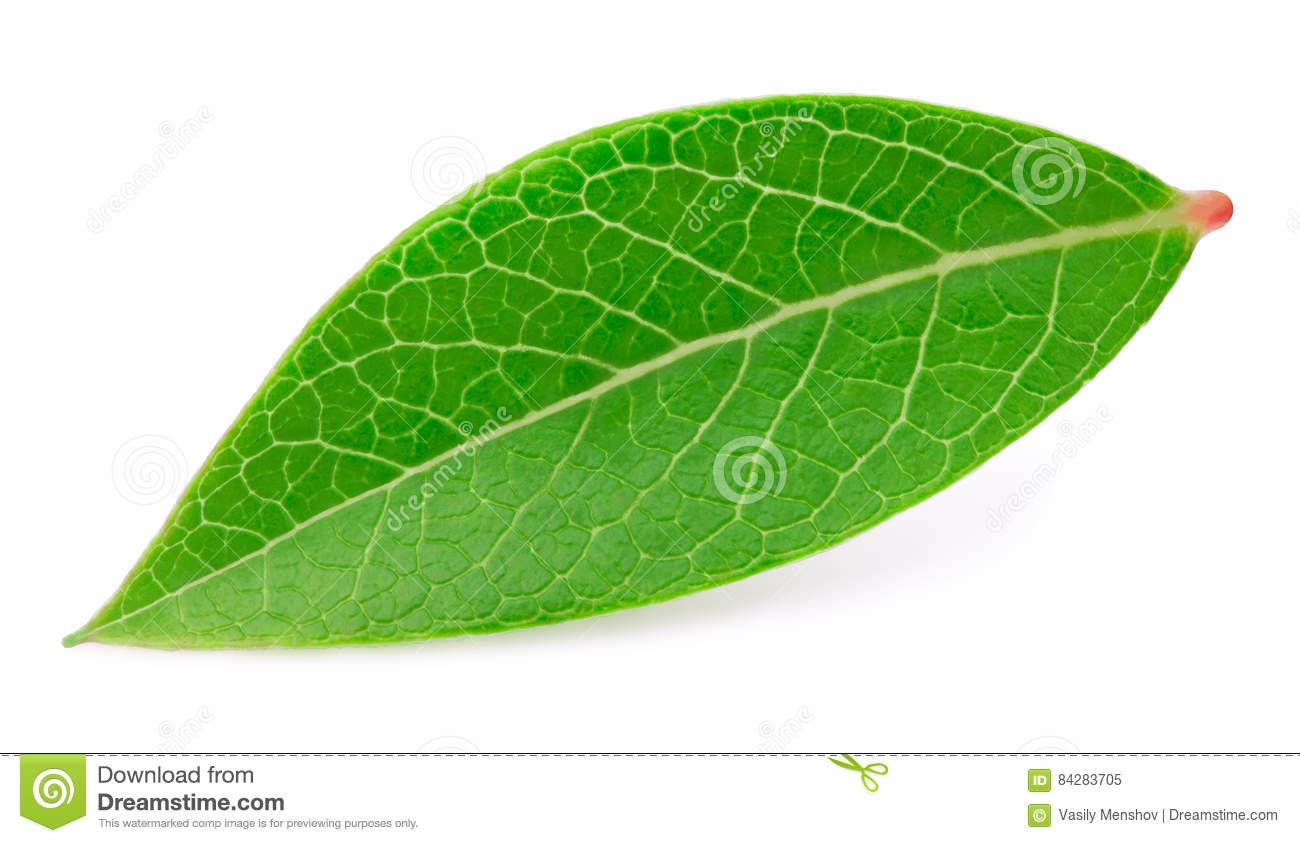Blueberry leaf: (44, 91, 1252, 672)
